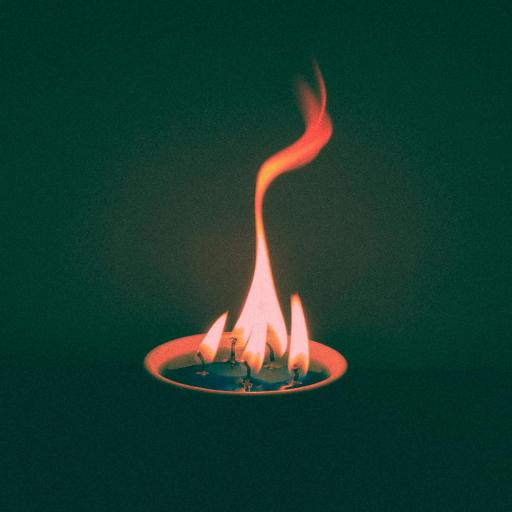candlelight: (138, 48, 359, 440)
